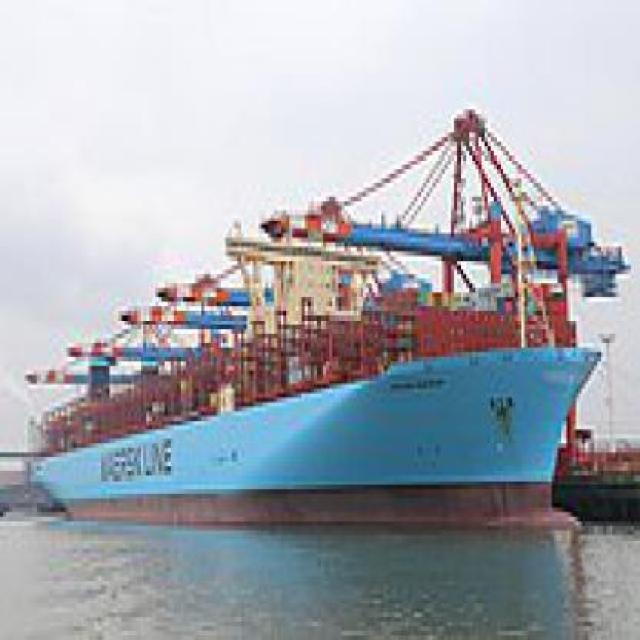container: (17, 97, 623, 550)
